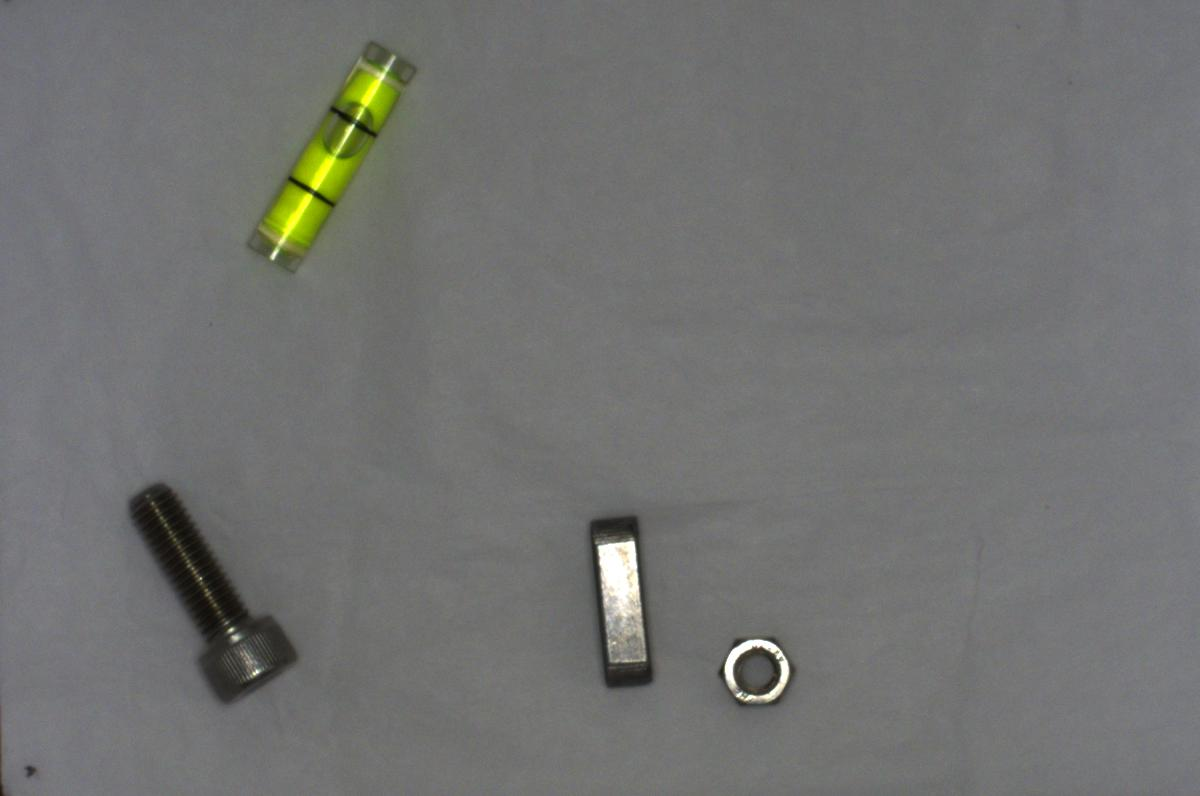Hexagon nut: (704, 622, 804, 718)
Hexagon screw: (128, 469, 304, 707)
Horizontal bubble: (241, 26, 419, 276)
Keybar: (580, 505, 658, 693)
